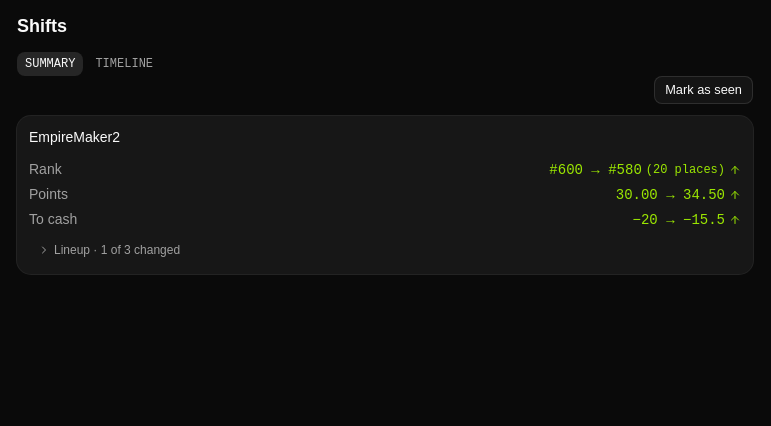
the lineup diff on a VIP card › shows the stats line under the name only when the data has one, and does not count a stats-only change
The width and height of the screenshot is (771, 426).
Expected: the heading "Shifts" is shown, 17,16 -> 67,36
Click the button "Lineup · 1 of 3 changed" at (77, 250), box 29,238 -> 741,262
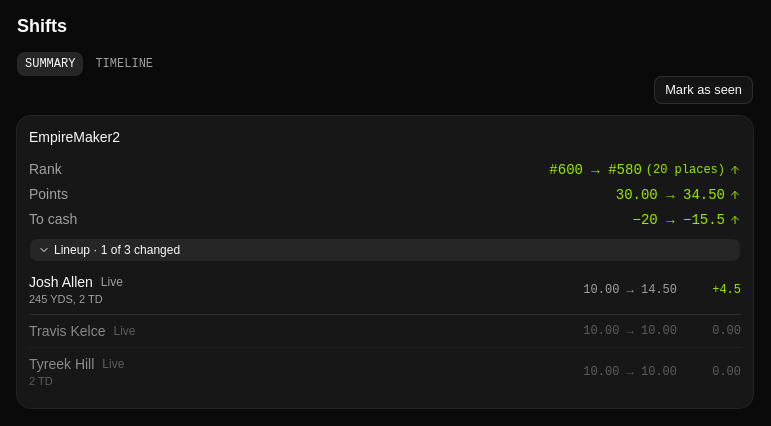
Result: the text "245 YDS, 2 TD" is shown at 29,293 -> 103,305
Result: the text "2 TD" is shown at 29,375 -> 53,387
